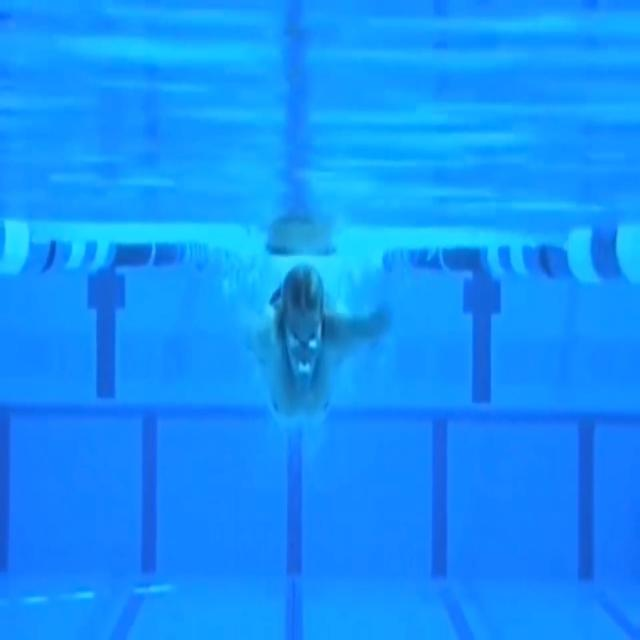Swimming: (246, 262, 347, 428)
